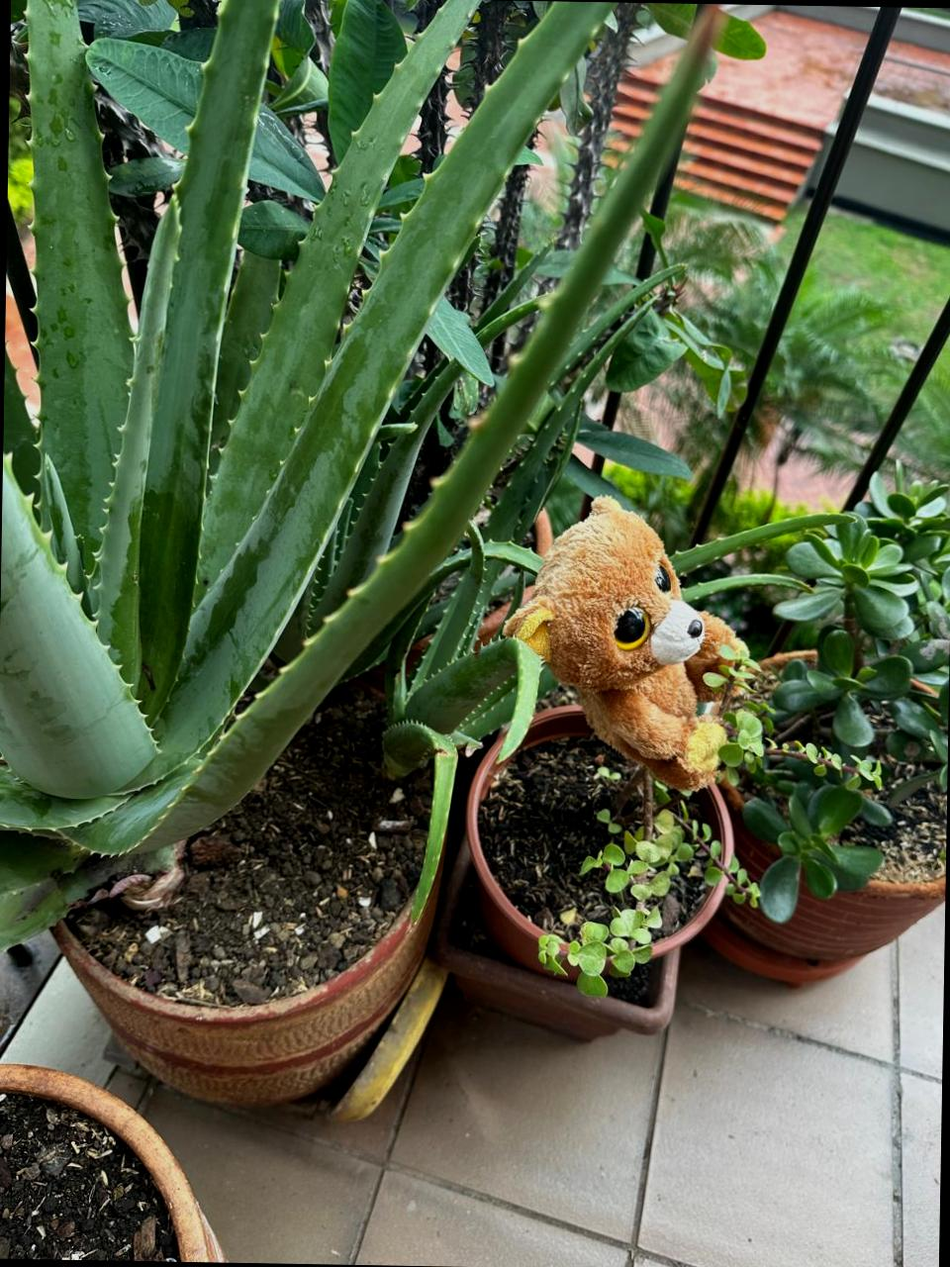peluche_sebastian: (502, 495, 762, 794)
